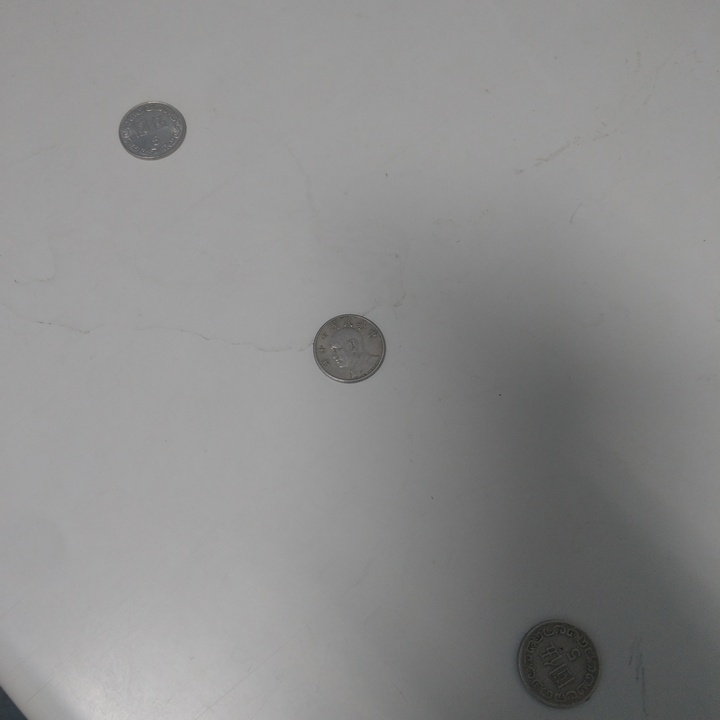5 dollar: (515, 620, 601, 710), (312, 315, 388, 384), (119, 99, 187, 162)
